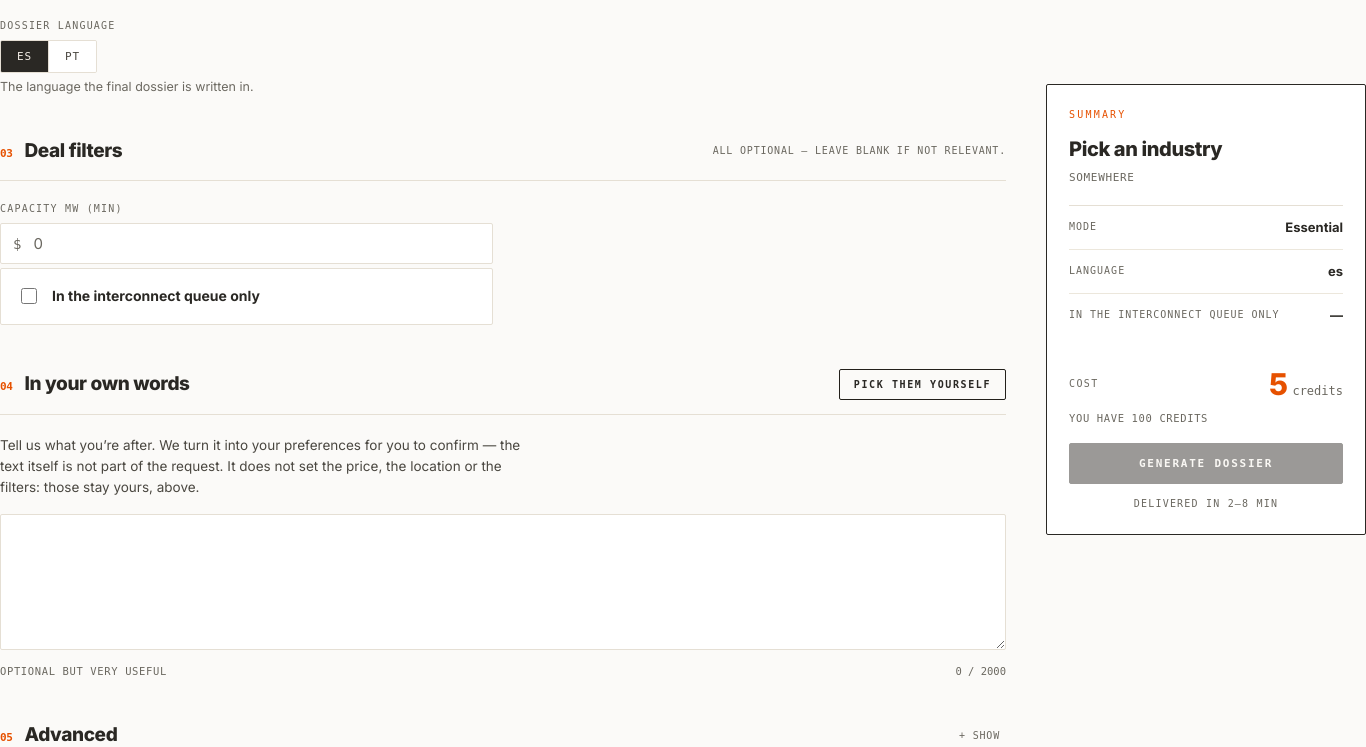
the directive block comes entirely from the manifest › …and a boolean the buyer actually ticked still says so
(page scrolled)
Click the button with test id "toggle-preferences" at coordinates (922, 384), box [839,369,1006,400]
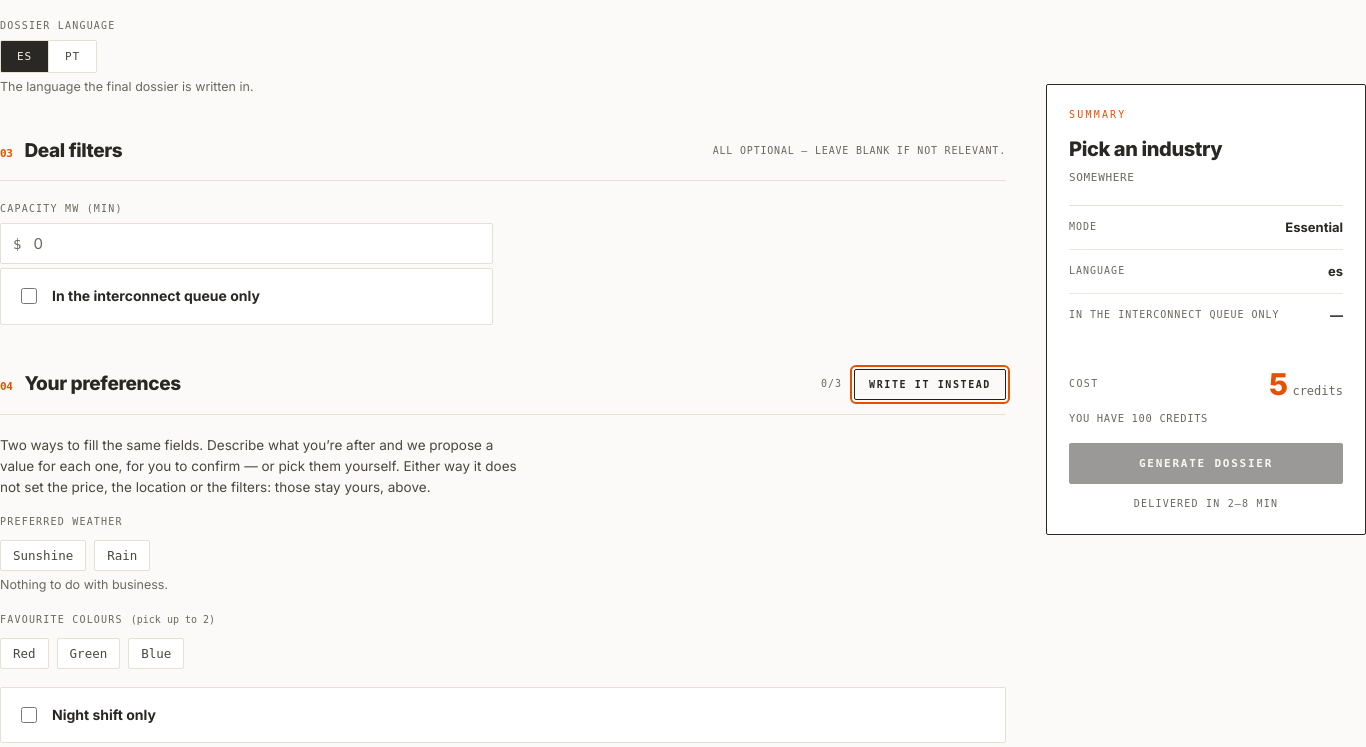
Click the checkbox labelled "Night shift only" at coordinates (29, 715), box [21,707,37,723]
(page scrolled)
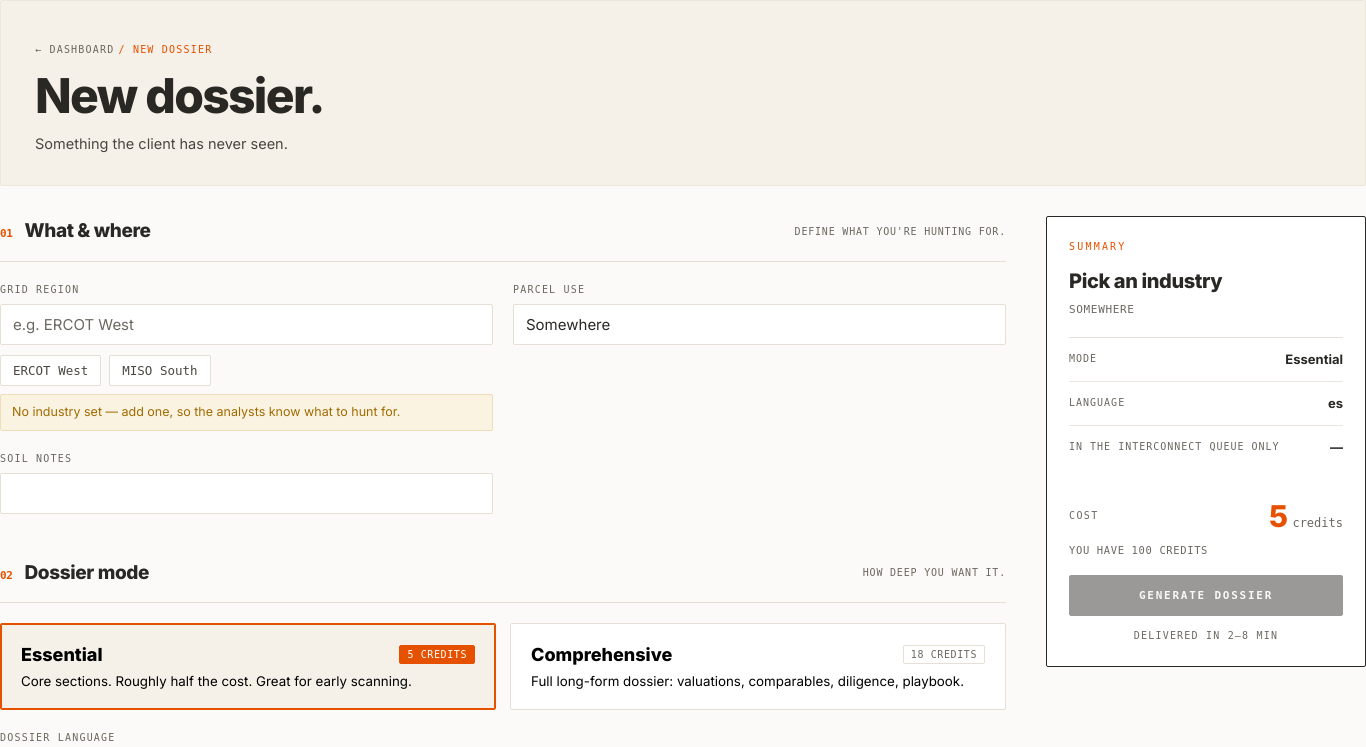
Type "ERCOT West" into the field with placeholder "e.g. ERCOT West" at coordinates (246, 324), box [0,304,493,345]
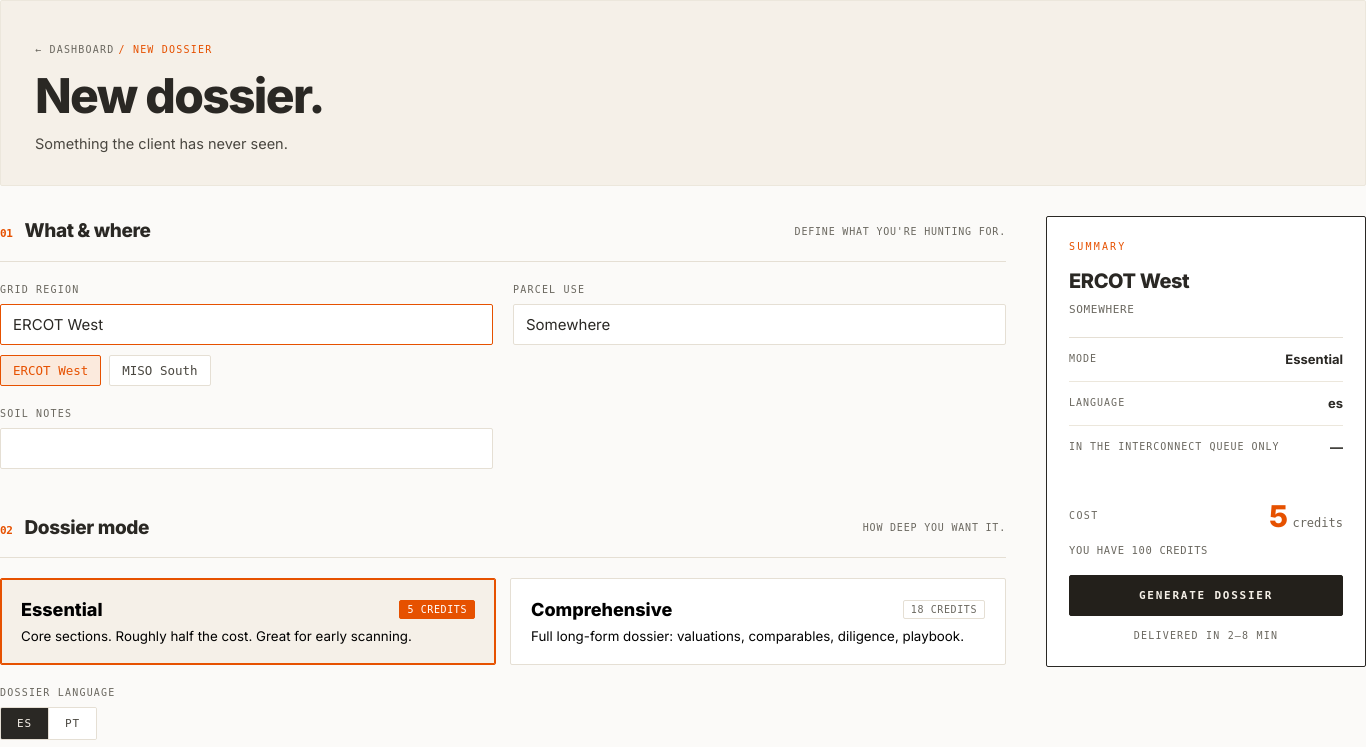
Click the button "Generate dossier" at coordinates (1206, 596), box [1069,575,1343,616]
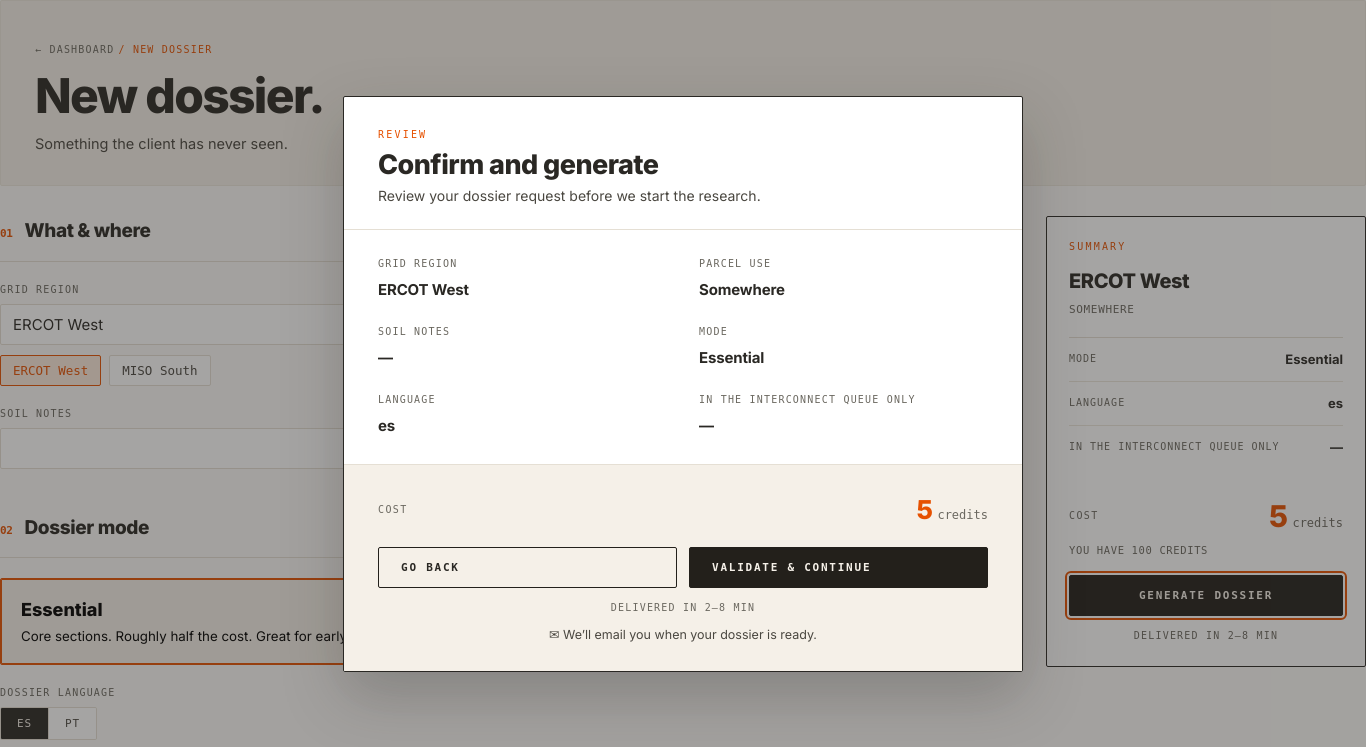
Click the button "Validate & continue" at coordinates (838, 568), box [689,547,988,588]
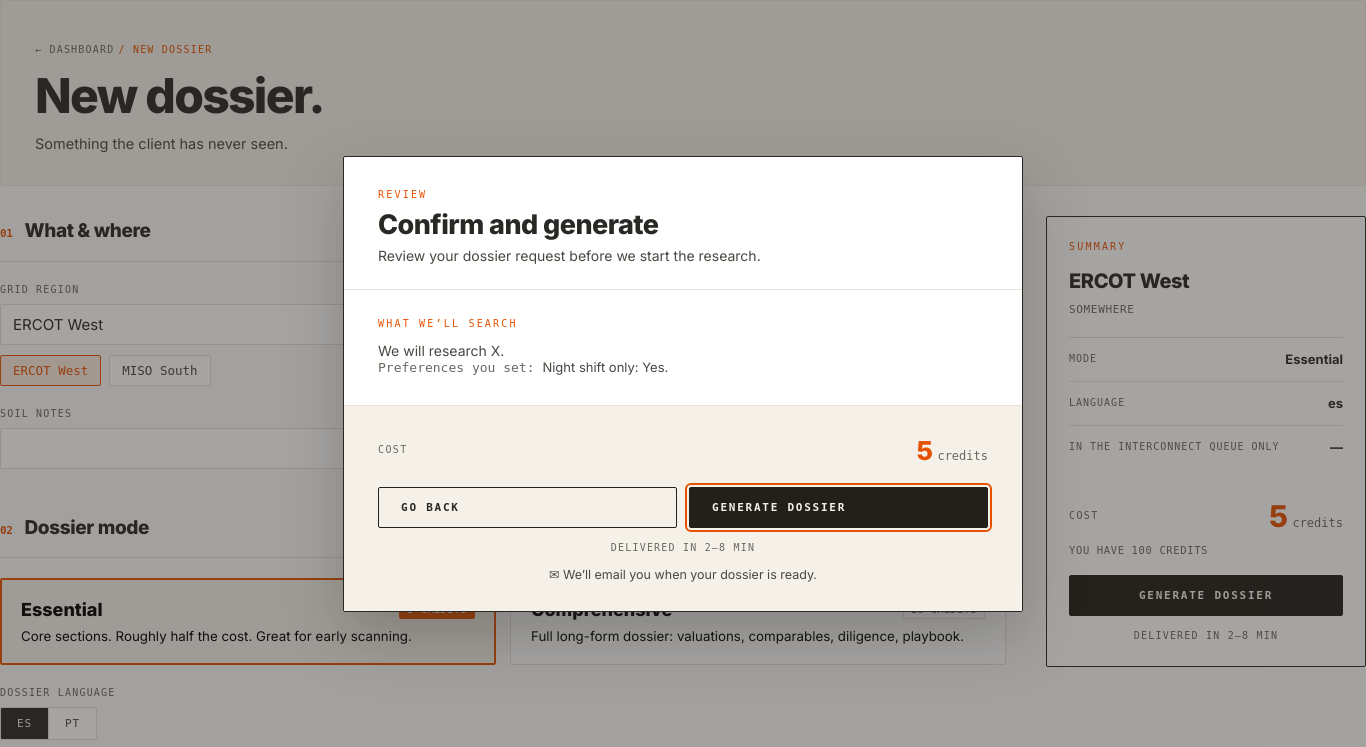
expect the element with test id "confirm-prefs" shows "Night shift only: Yes": met, box [542,359,665,375]
